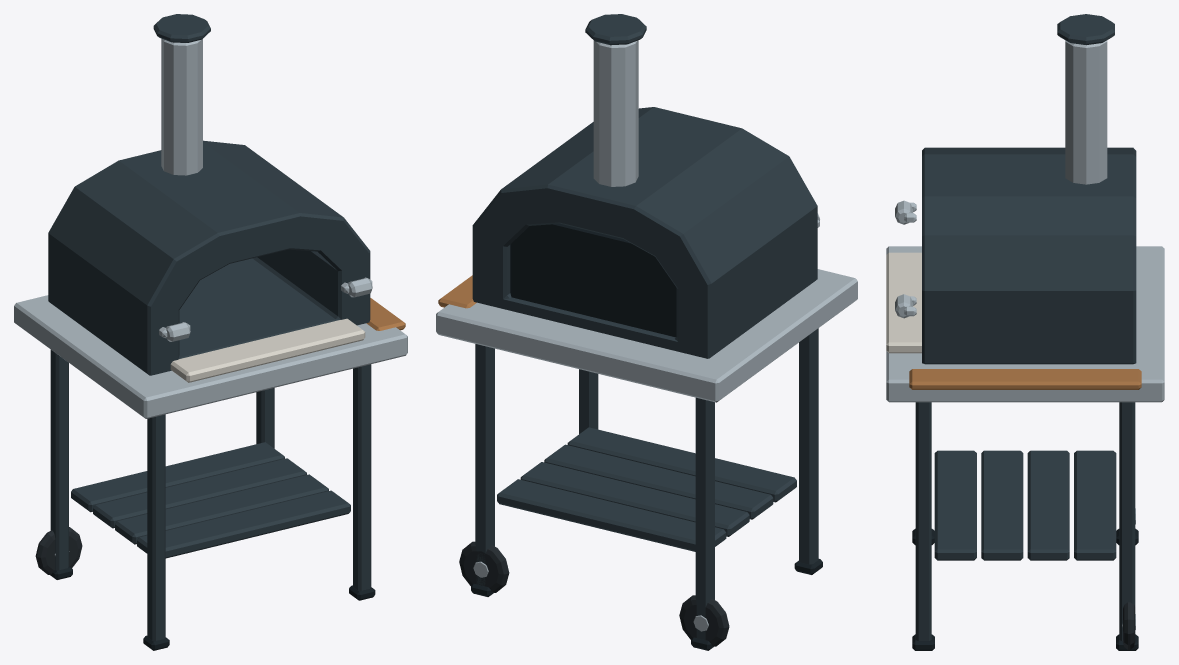
The model's file is b11_backyard_pizza_oven_cart.glb.
3 views of the same model, side by side, from view 1: azimuth 30°, elevation 25°; view 2: azimuth 150°, elevation 25°; view 3: azimuth 270°, elevation 25° (orthographic). The views are drawn at different scales.
Parts seen in each view (by area): view 1: b11_backyard_pizza_oven_cart; view 2: b11_backyard_pizza_oven_cart; view 3: b11_backyard_pizza_oven_cart.
Part boxes in pixels (box(x1,y1,x2,y2)): b11_backyard_pizza_oven_cart: box(14, 14, 407, 650); b11_backyard_pizza_oven_cart: box(436, 14, 857, 650); b11_backyard_pizza_oven_cart: box(886, 14, 1164, 650).
Bounding box in the file's own units: 0.93 × 1.76 × 0.78.
